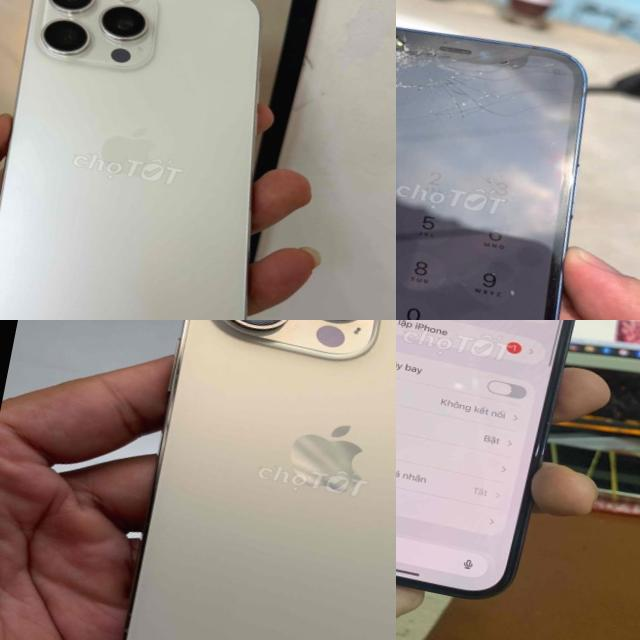gen_12_13: (396, 2, 623, 320)
gen_14: (99, 320, 396, 640), (396, 320, 611, 615)
gen_15: (0, 0, 331, 320)
physical_damage: (396, 6, 558, 143)
scratch: (29, 0, 164, 74)
